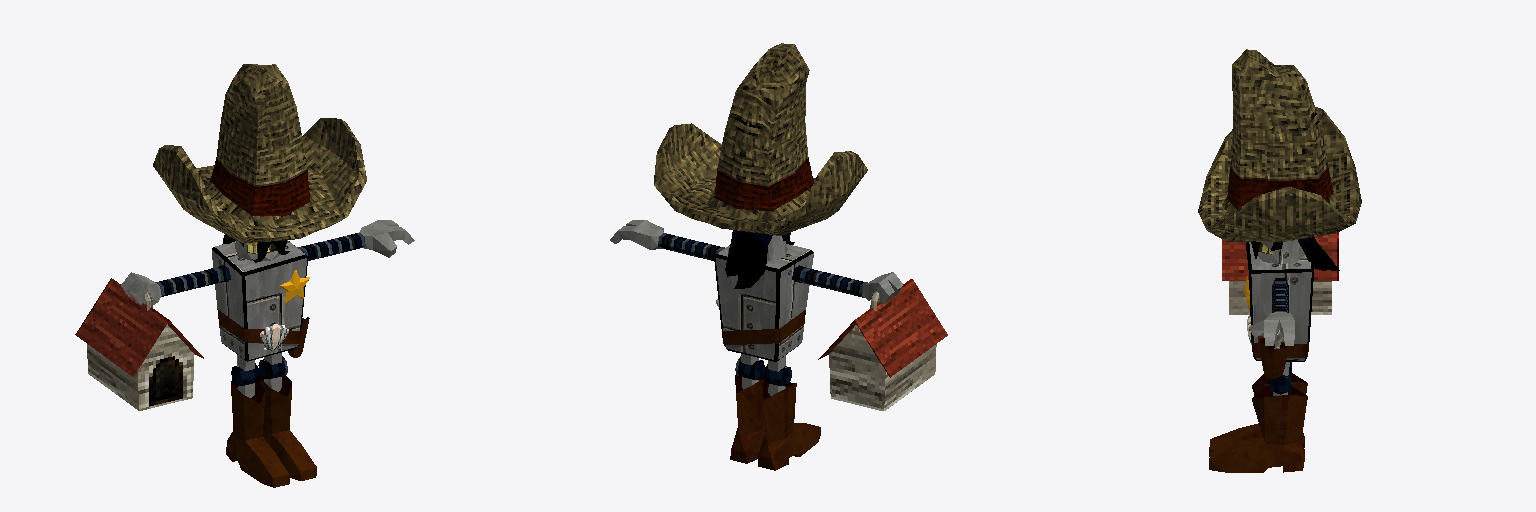
The picture shows the model from 3 angles: view 1: azimuth 30°, elevation 25°; view 2: azimuth 150°, elevation 25°; view 3: azimuth 270°, elevation 25°; orthographic projection.
Visible parts, largest first — view 1: Material_#122; view 2: Material_#122; view 3: Material_#122.
Boxes of the visible parts, x1,y1,x2,y2 form: Material_#122: [75, 64, 414, 487]; Material_#122: [610, 43, 947, 470]; Material_#122: [1198, 49, 1361, 472].
Size of the model in its own units: 35.67 by 45.44 by 16.73.
Materials: 1 (1 with a texture image).